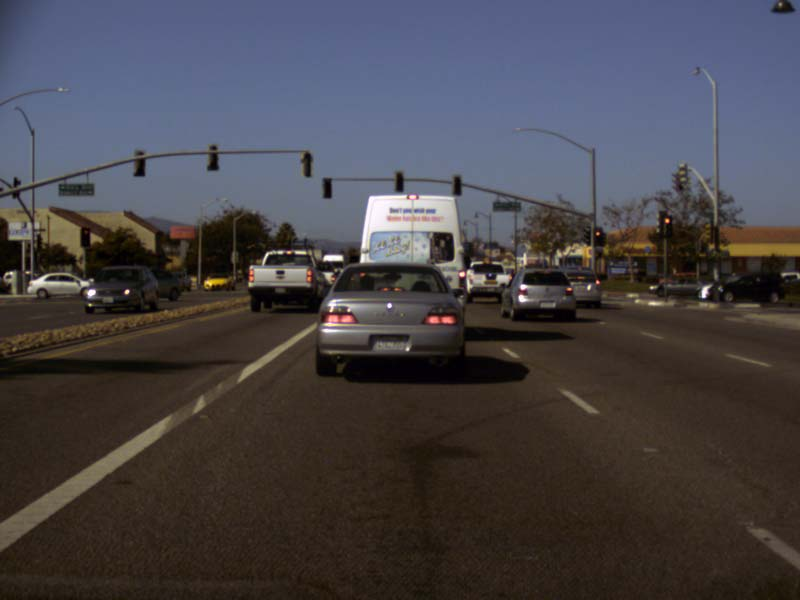Red: (662, 215, 672, 235), (593, 228, 601, 245), (81, 228, 88, 245)
